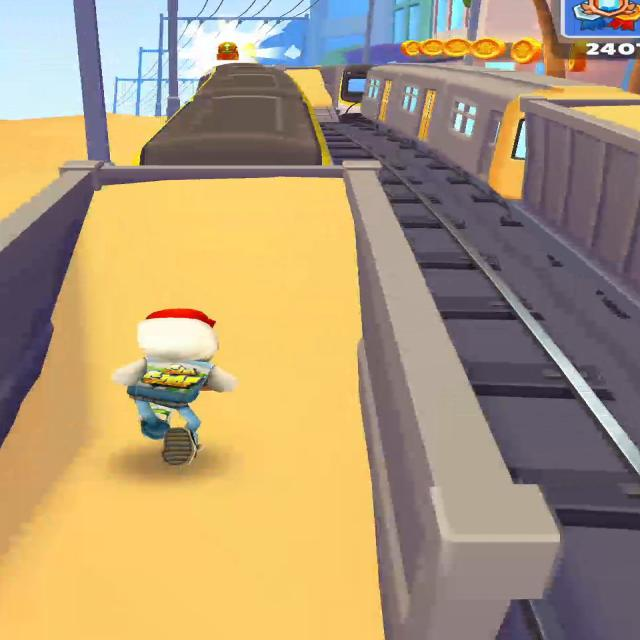climber: (0, 178, 381, 640), (285, 68, 338, 122)
train: (361, 64, 639, 288)
